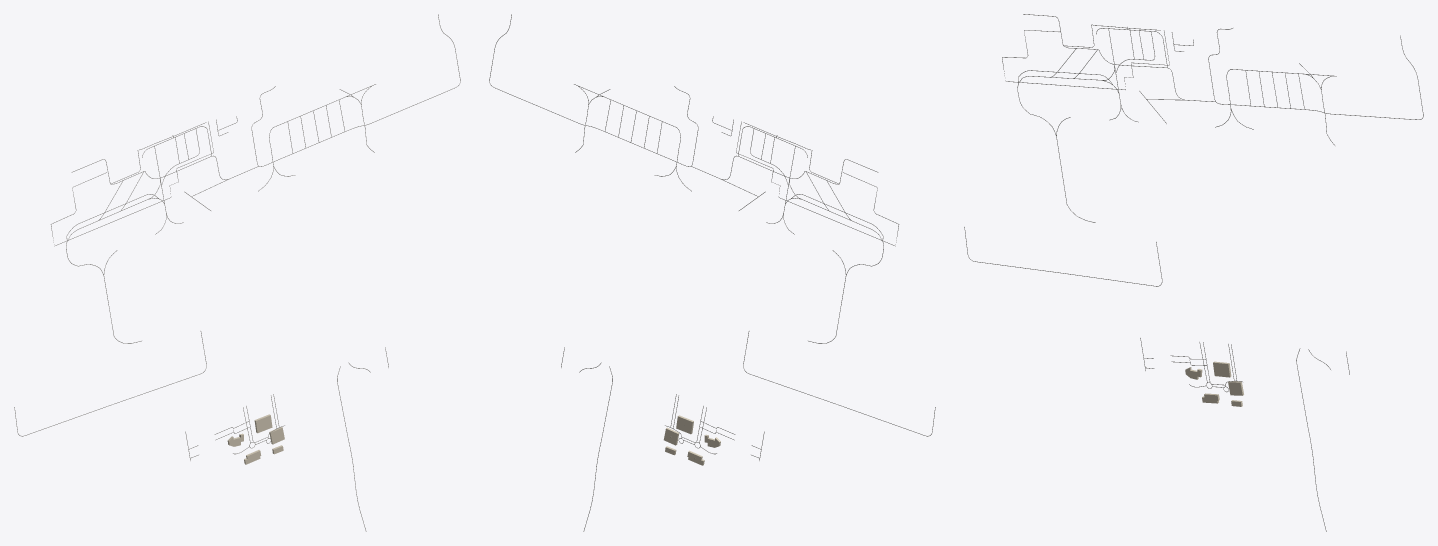
The model's file is amman_3598_3171.glb.
3 renders of one model, left to right at view 1: azimuth 30°, elevation 25°; view 2: azimuth 150°, elevation 25°; view 3: azimuth 330°, elevation 25°, orthographic. The views are drawn at different scales.
Size of the model in its own units: 1432 by 1534 by 9.09.
